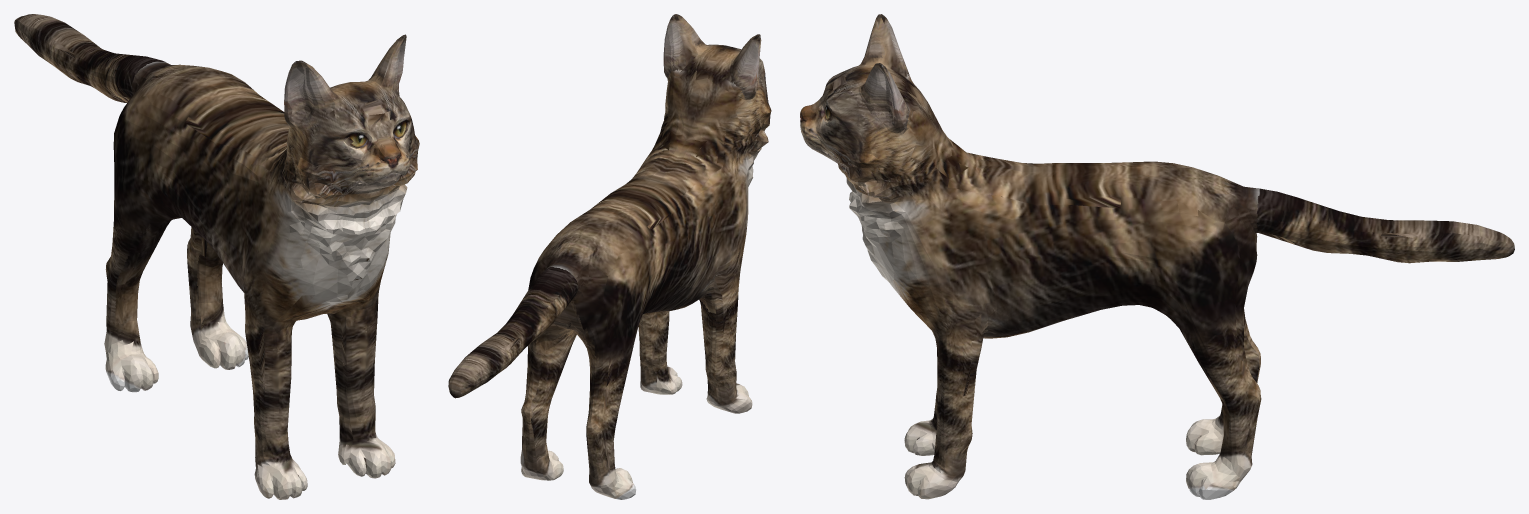
The model's file is Maine Coon.fbx.
3 renders of one model, left to right at view 1: azimuth 30°, elevation 25°; view 2: azimuth 150°, elevation 25°; view 3: azimuth 270°, elevation 25°, orthographic. The views are drawn at different scales.
Parts seen in each view (by area): view 1: Cat_Base_1.002; view 2: Cat_Base_1.002; view 3: Cat_Base_1.002.
Part boxes in pixels (x1=…): Cat_Base_1.002: x1=14, y1=14, x2=419, y2=499; Cat_Base_1.002: x1=448, y1=14, x2=771, y2=499; Cat_Base_1.002: x1=800, y1=14, x2=1514, y2=499.
Size of the model in its own units: 134 by 426 by 638.
Materials: 1 (1 with a texture image).
